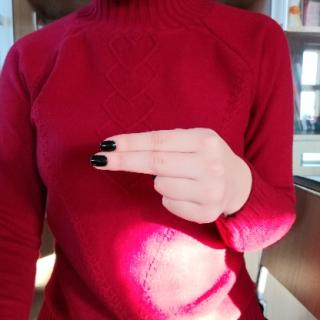AYN: (92, 123, 249, 225)
